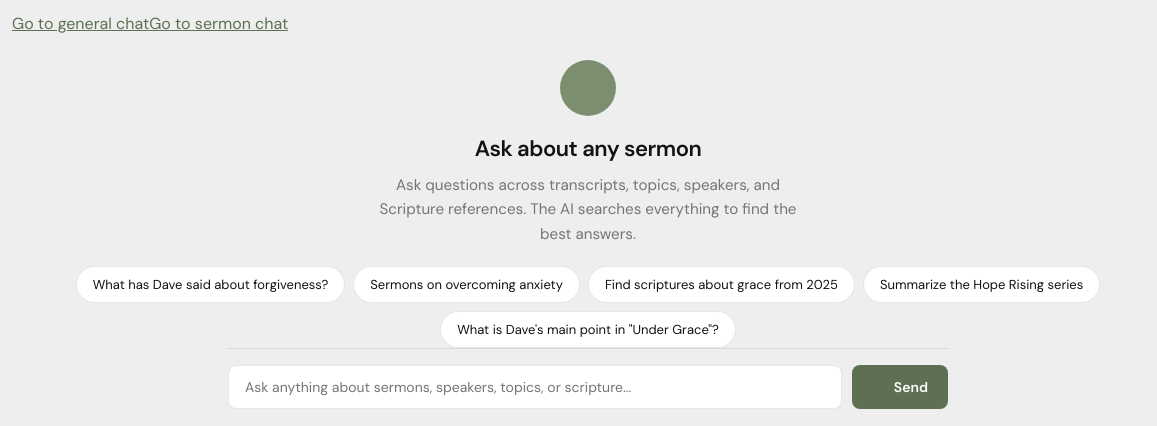
Test: renders a supported:false decline as a labeled answer with no source cards and no alert
Type "Where is the moon?" into the field with placeholder "Ask anything about sermons, speakers, topics, or scripture...". click: x=535, y=387
box: [228, 365, 842, 409]
Then press Enter
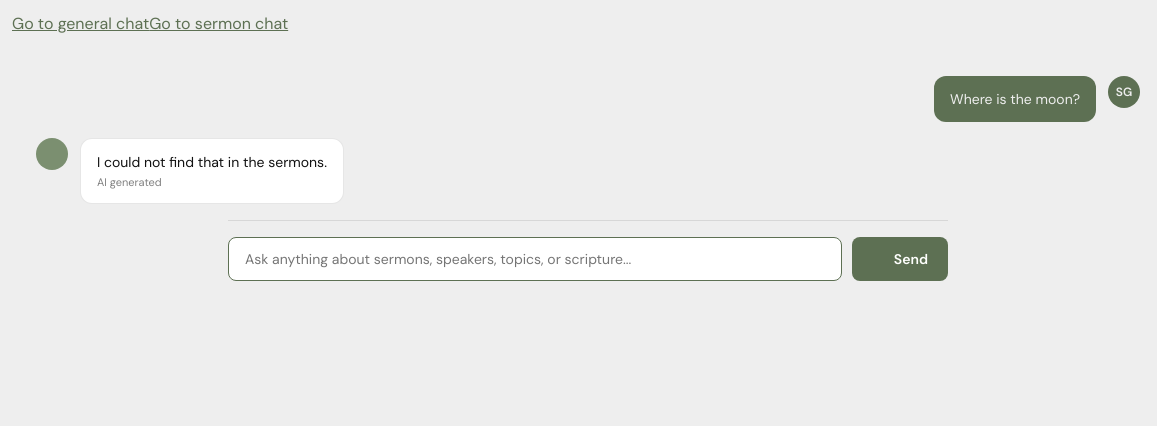
Now the text "I could not find that in the sermons." is shown, box [97, 151, 327, 174]
Now the text "AI generated" is shown, box [97, 175, 162, 189]
